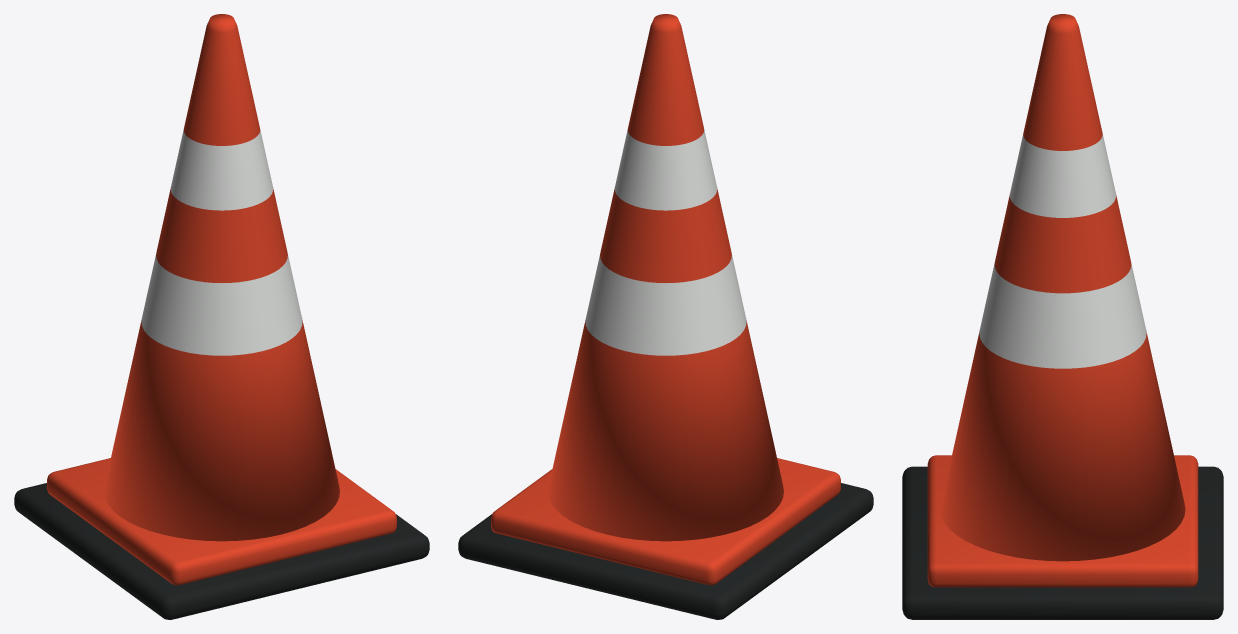
File: oct2025_two_band_cone.glb
3 renders of one model, left to right at view 1: azimuth 30°, elevation 25°; view 2: azimuth 150°, elevation 25°; view 3: azimuth 270°, elevation 25°, orthographic. The views are drawn at different scales.
Visible parts, largest first — view 1: oct2025_two_band_cone; view 2: oct2025_two_band_cone; view 3: oct2025_two_band_cone.
Part boxes in pixels (x1,y1,x2,y2): oct2025_two_band_cone: [14, 14, 429, 619]; oct2025_two_band_cone: [458, 14, 873, 619]; oct2025_two_band_cone: [902, 14, 1223, 619].
Size of the model in its own units: 0.38 by 0.7 by 0.38.
